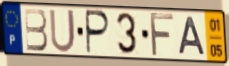3: (115, 11, 139, 56)
A: (177, 16, 207, 57)
B: (23, 8, 50, 53)
F: (148, 11, 176, 58)
P: (85, 8, 112, 56)
U: (48, 8, 77, 55)
